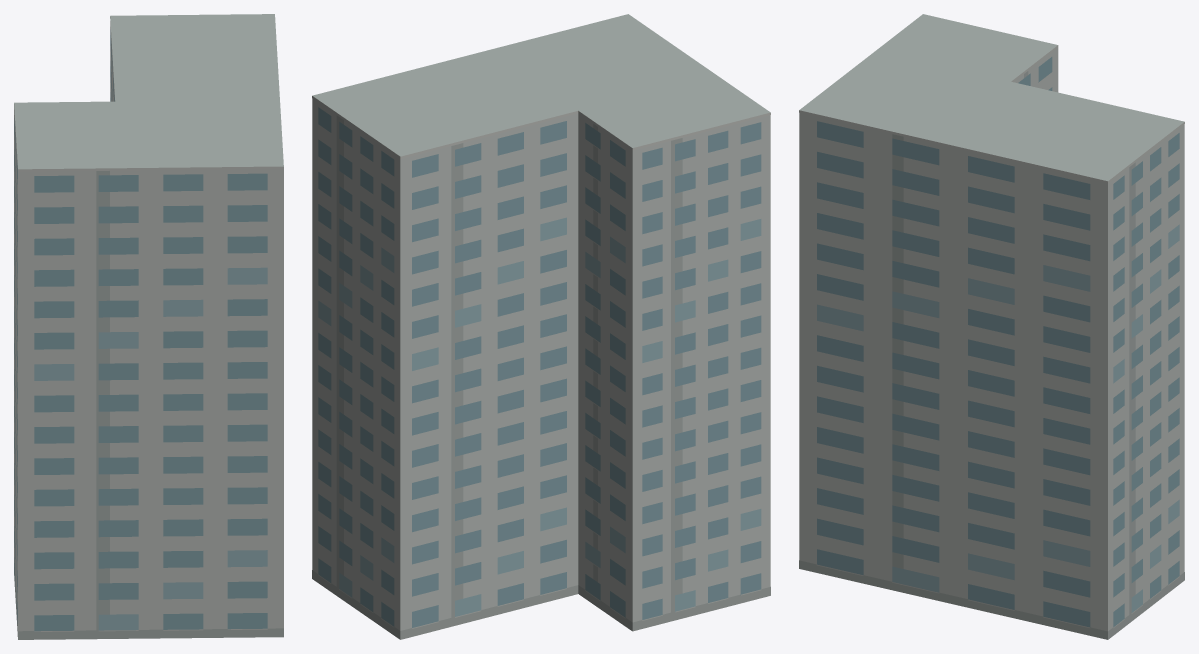
File: residential-c97a8c75-bb32-4a11-be88-f25b30bc3e39.glb
3 renders of one model, left to right at view 1: azimuth 30°, elevation 25°; view 2: azimuth 150°, elevation 25°; view 3: azimuth 270°, elevation 25°, orthographic. The views are drawn at different scales.
Visible parts, largest first — view 1: residential-c97a8c75-bb32-4a11-be88-f25b30bc3e39.tmp; view 2: residential-c97a8c75-bb32-4a11-be88-f25b30bc3e39.tmp; view 3: residential-c97a8c75-bb32-4a11-be88-f25b30bc3e39.tmp.
Part boxes in pixels (x1,y1,x2,y2): residential-c97a8c75-bb32-4a11-be88-f25b30bc3e39.tmp: (14, 14, 283, 639); residential-c97a8c75-bb32-4a11-be88-f25b30bc3e39.tmp: (312, 14, 770, 639); residential-c97a8c75-bb32-4a11-be88-f25b30bc3e39.tmp: (799, 14, 1184, 639).
Bounding box in the file's own units: 35.99 × 46 × 35.07.
